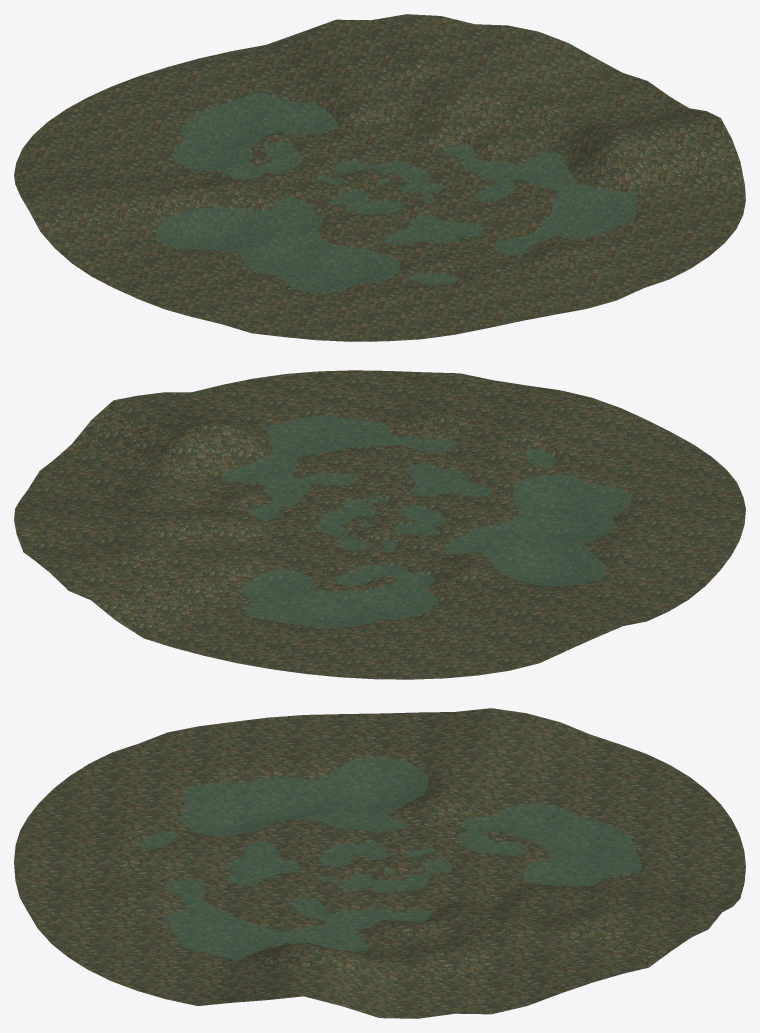
File: SwampTerrain.fbx
3 views of the same model, one above another, from view 1: azimuth 30°, elevation 25°; view 2: azimuth 150°, elevation 25°; view 3: azimuth 270°, elevation 25° (orthographic). The views are drawn at different scales.
Parts seen in each view (by area): view 1: SwampTerrain, SwampWater; view 2: SwampTerrain, SwampWater; view 3: SwampTerrain, SwampWater.
Part boxes in pixels (box(x1,y1,x2,y2)): SwampTerrain: box(14, 14, 745, 341); SwampWater: box(156, 92, 635, 293); SwampTerrain: box(14, 370, 745, 679); SwampWater: box(220, 415, 630, 628); SwampTerrain: box(14, 708, 745, 1018); SwampWater: box(138, 755, 642, 960).
Bounding box in the file's own units: 65.27 × 65.27 × 3.83.
